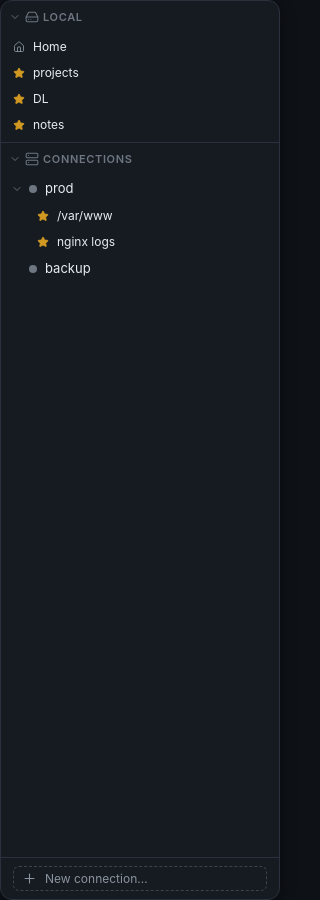
Test: a connection's favorites › lists them under the row with a disclosure that is remembered
Step 1. Click the button named "Hide favorites of prod" → click(17, 189), box left=9, top=181, right=25, bottom=197
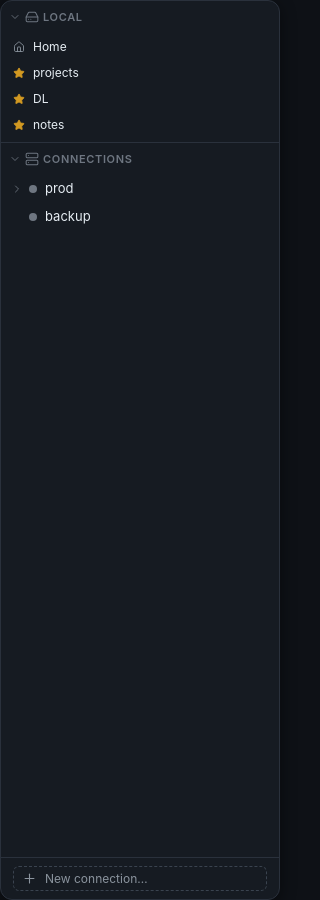
Step 2. Click the button named "Show favorites of prod" → click(17, 189), box left=9, top=181, right=25, bottom=197
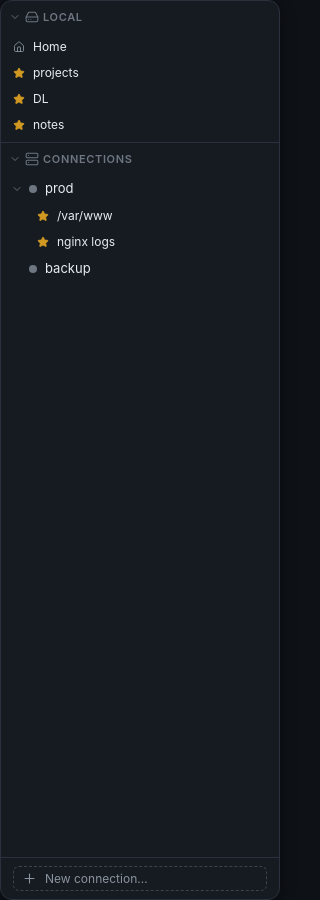
Check: the list named "Favorites of prod" is shown, box left=37, top=208, right=115, bottom=249
